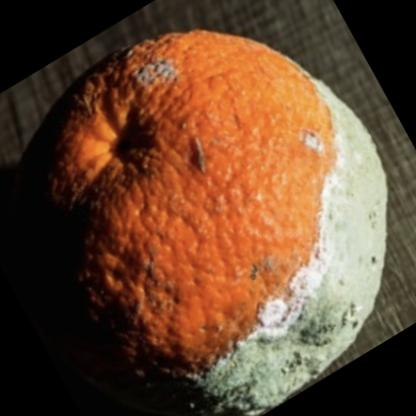rotten: (18, 32, 388, 415)
